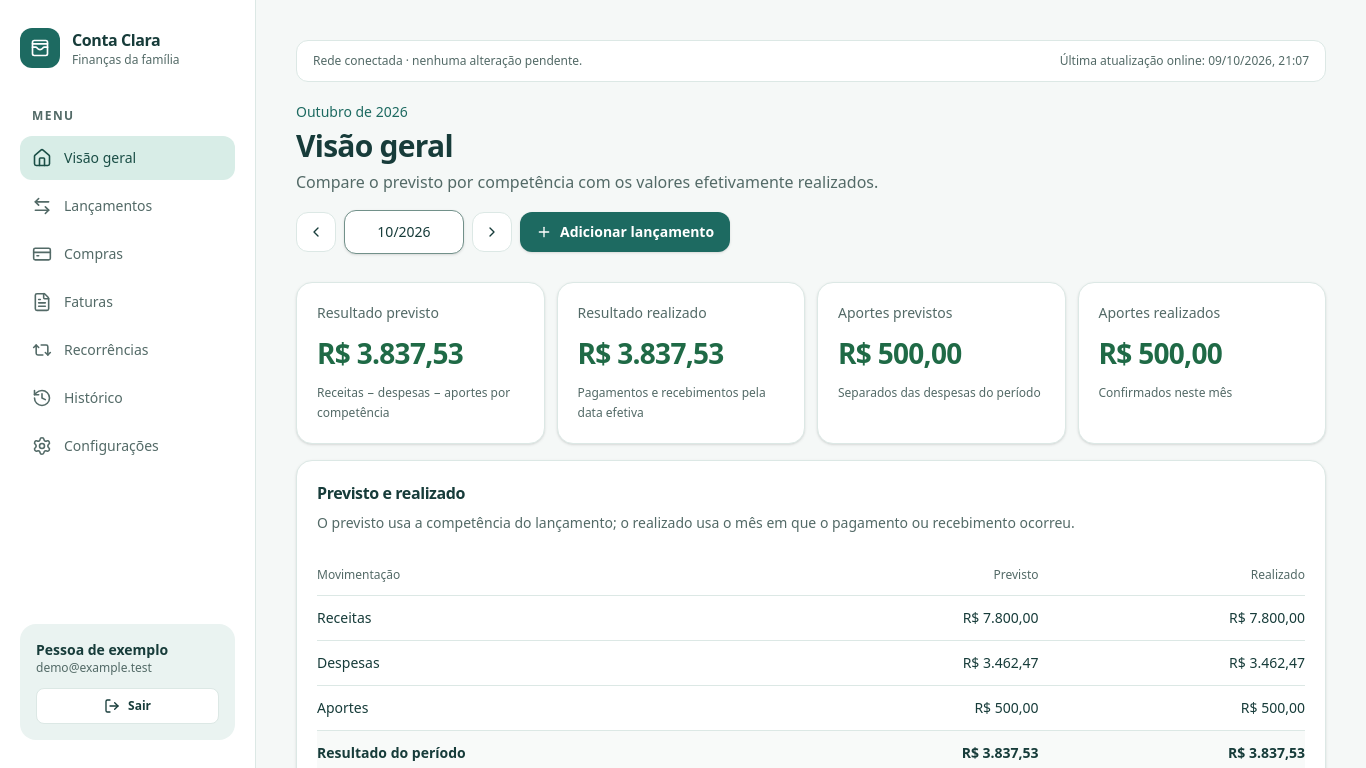
Test case: application navigation and preview screens › opens the saved transaction list from the main navigation
Expected: the heading "Visão geral" is shown, [296, 125, 453, 166]
Click the link "Lançamentos".
click(92, 206)  # box [32, 196, 152, 216]
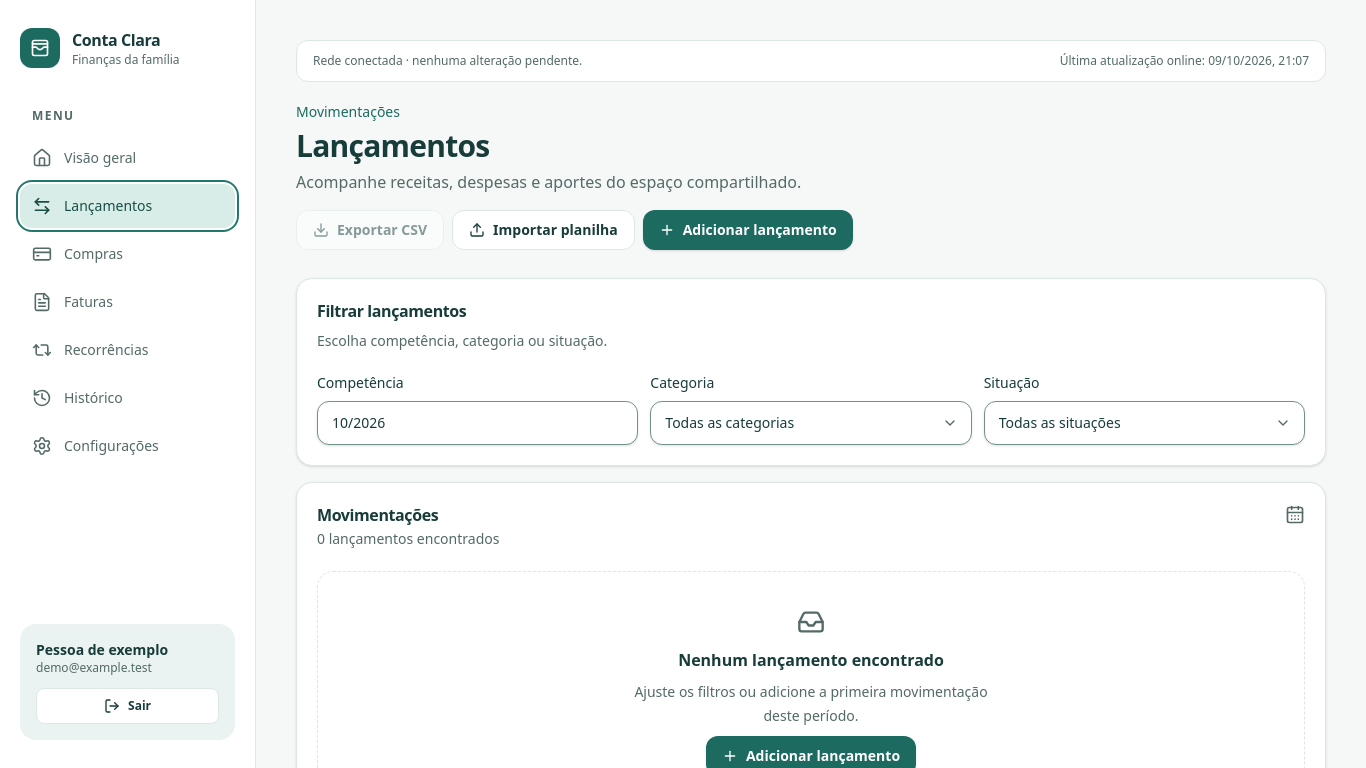
Now the heading "Lançamentos" is shown, box [296, 125, 490, 166]
Now the heading "Filtrar lançamentos" is shown, box [317, 300, 466, 322]
